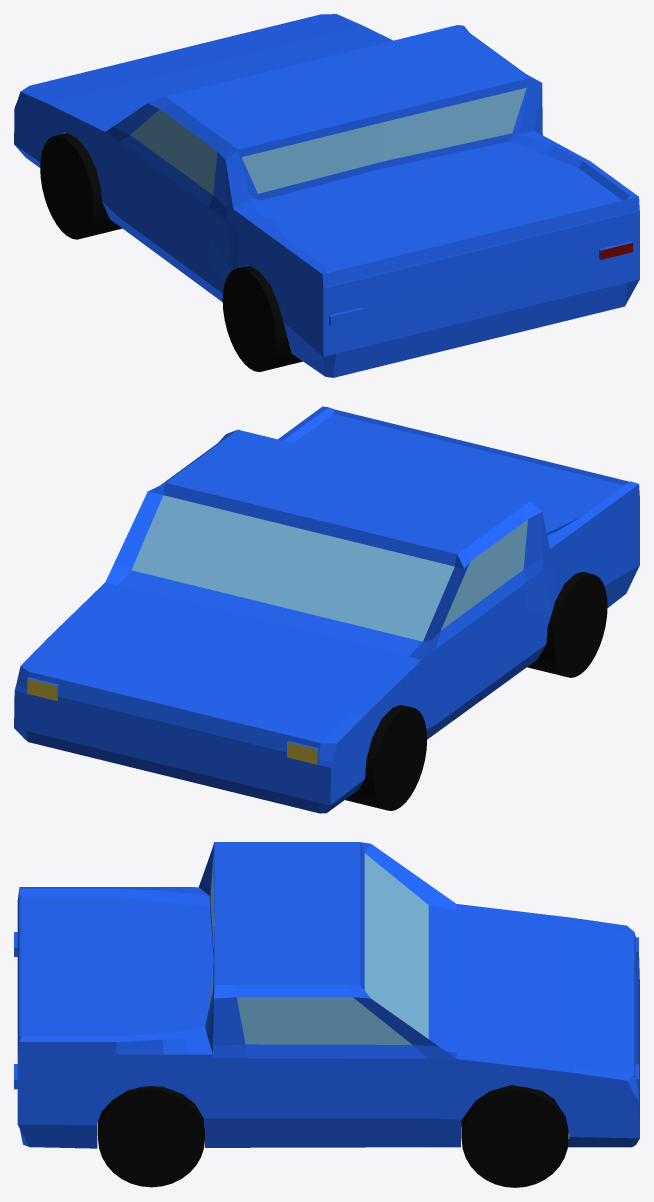
The model's file is CarNPC02.fbx.
3 renders of one model, top to bottom at view 1: azimuth 30°, elevation 25°; view 2: azimuth 150°, elevation 25°; view 3: azimuth 270°, elevation 25°, orthographic.
Visible parts, largest first — view 1: Cube.001; view 2: Cube.001; view 3: Cube.001.
Boxes of the visible parts, bbox=[...] form: Cube.001: bbox=[14, 14, 639, 377]; Cube.001: bbox=[14, 406, 639, 813]; Cube.001: bbox=[14, 842, 639, 1187].
Bounding box in the file's own units: 226 × 124 × 364.
